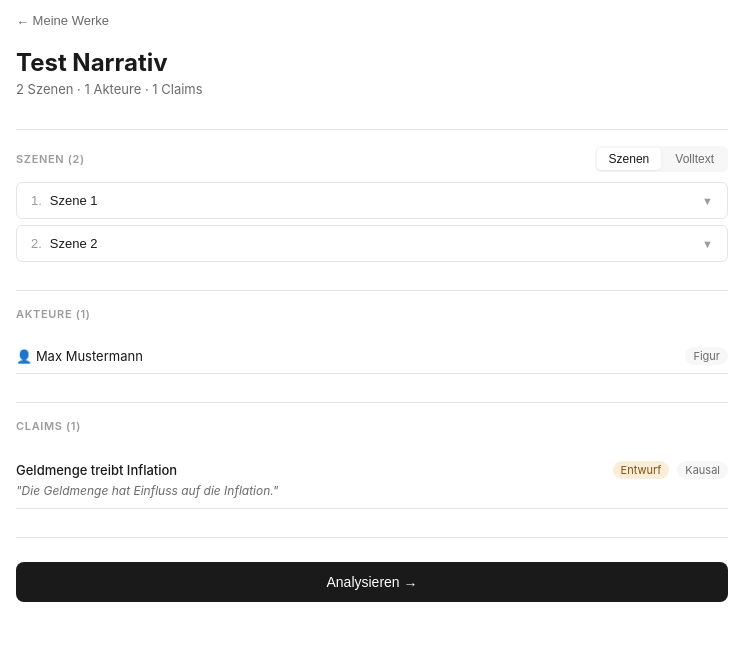
Scenario: NarrativeDetail › switching back to Szenen restores accordion
Expected: the heading "Test Narrativ" is shown, [16,48,168,77]
Click the button "Volltext" at point(695, 159), box [663,148,726,170]
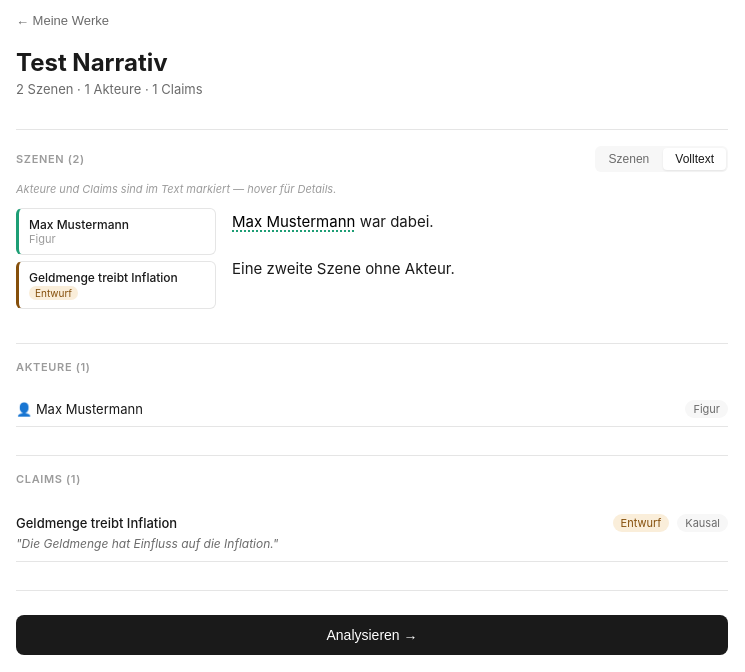
Click the button "Szenen" at point(629, 159), box [597,148,661,170]
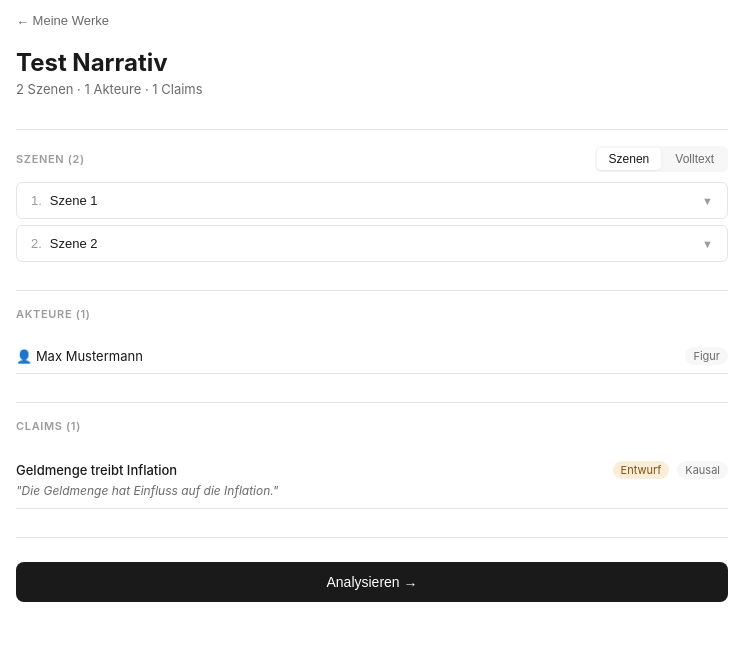
Now the text "Szene 1" is shown, box [50,193,98,208]
Now the text "Max Mustermann war dabei." is gone
